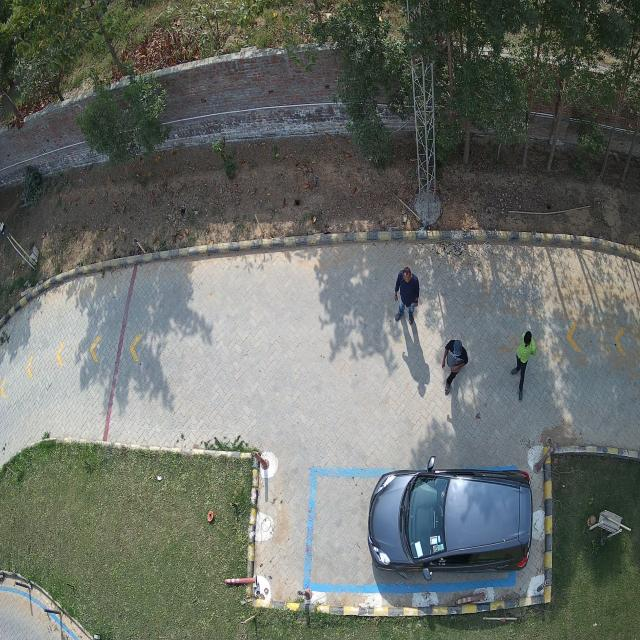car: (368, 457, 532, 580)
